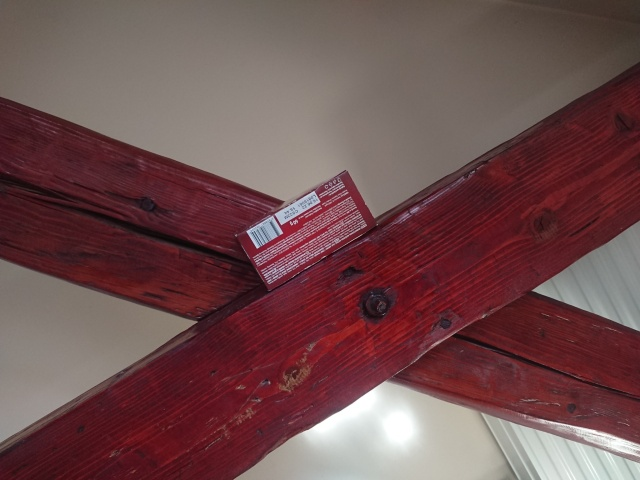Franck Apple Cinnamon Tea 60g: (231, 167, 380, 295)
